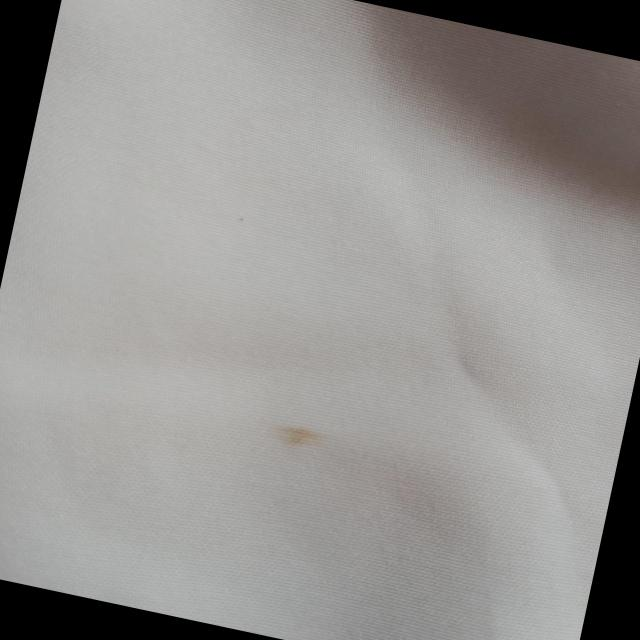stain: (262, 408, 346, 461)
